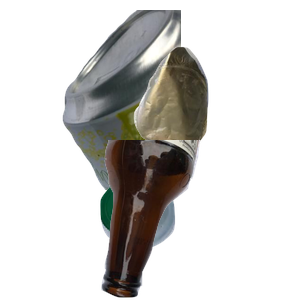glass: (99, 140, 300, 300)
metal: (60, 10, 300, 190)
plastic: (98, 176, 266, 300)
trash: (131, 44, 300, 189)
